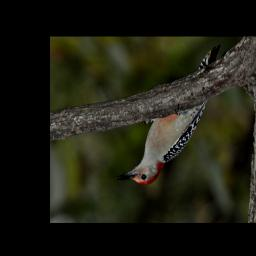Woodpecker: (115, 44, 221, 186)
